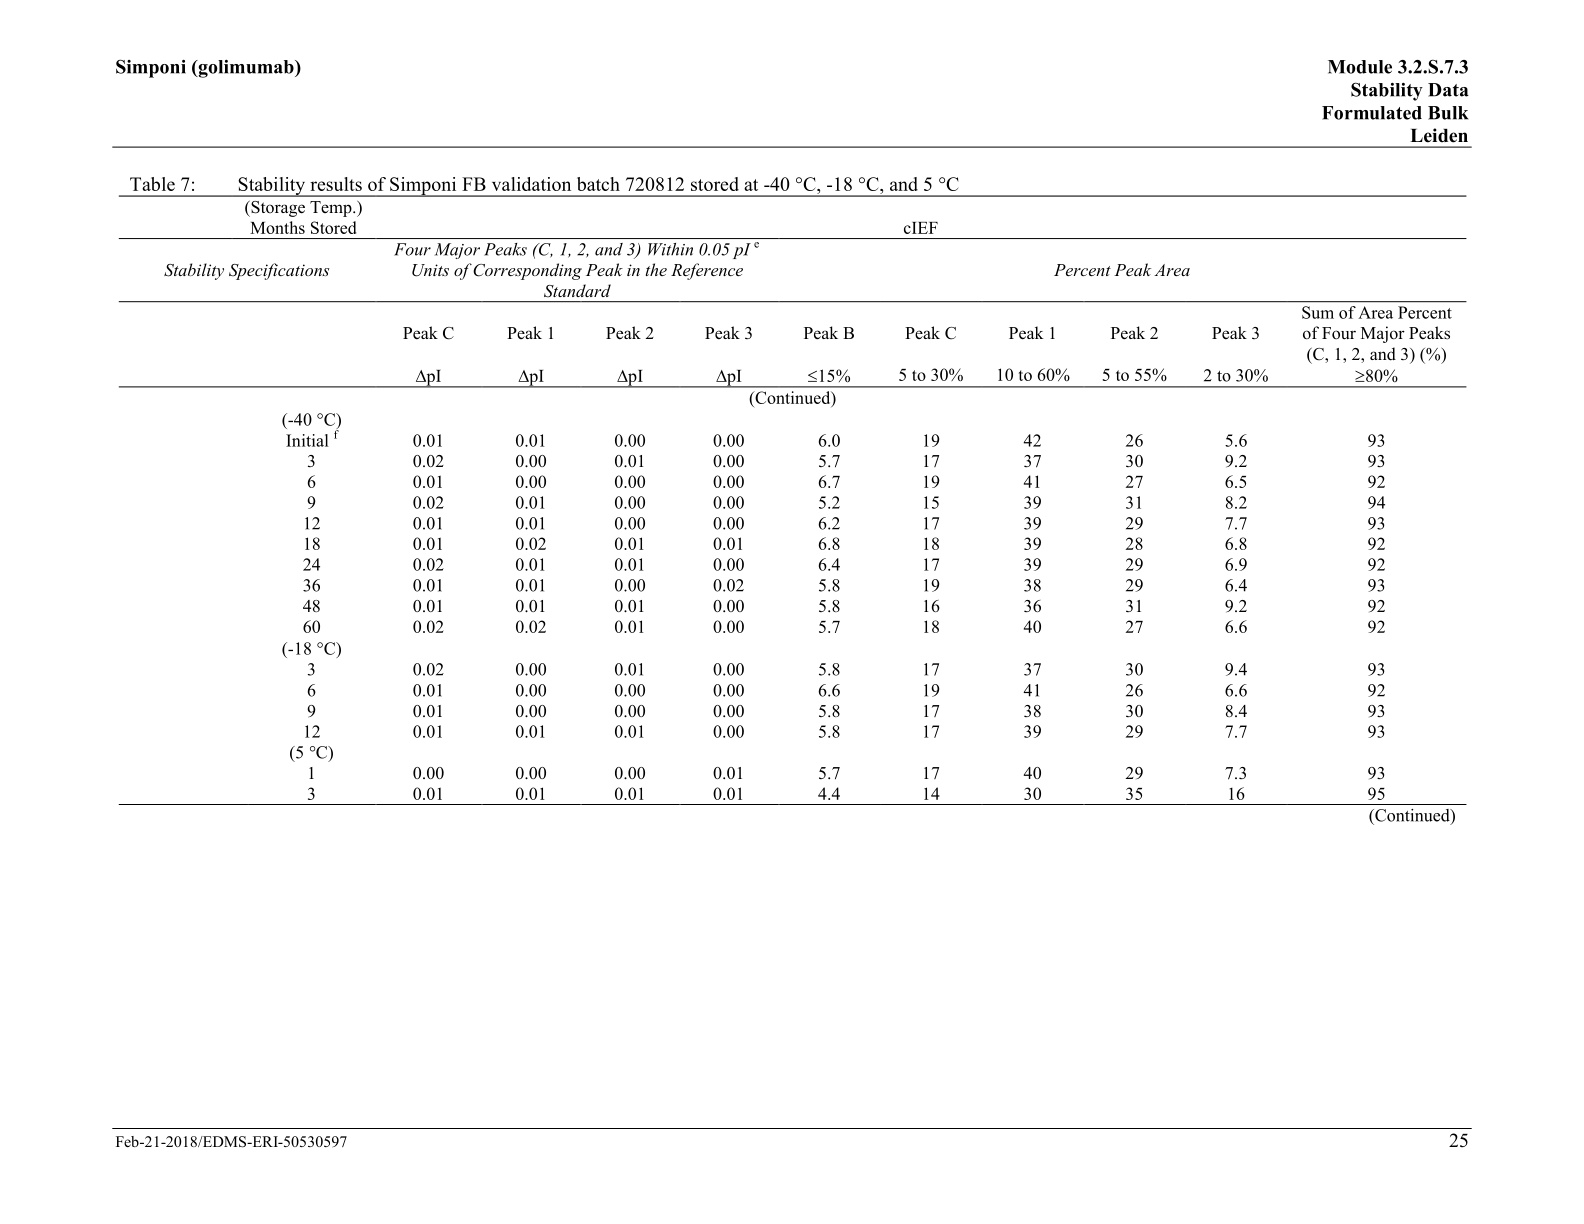partial_lined_merged_cells: (118, 193, 1468, 806)
